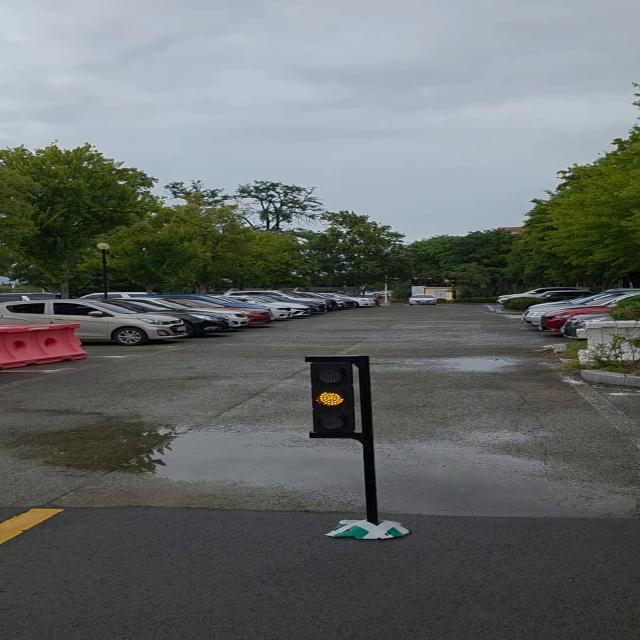yellow: (308, 358, 371, 439)
